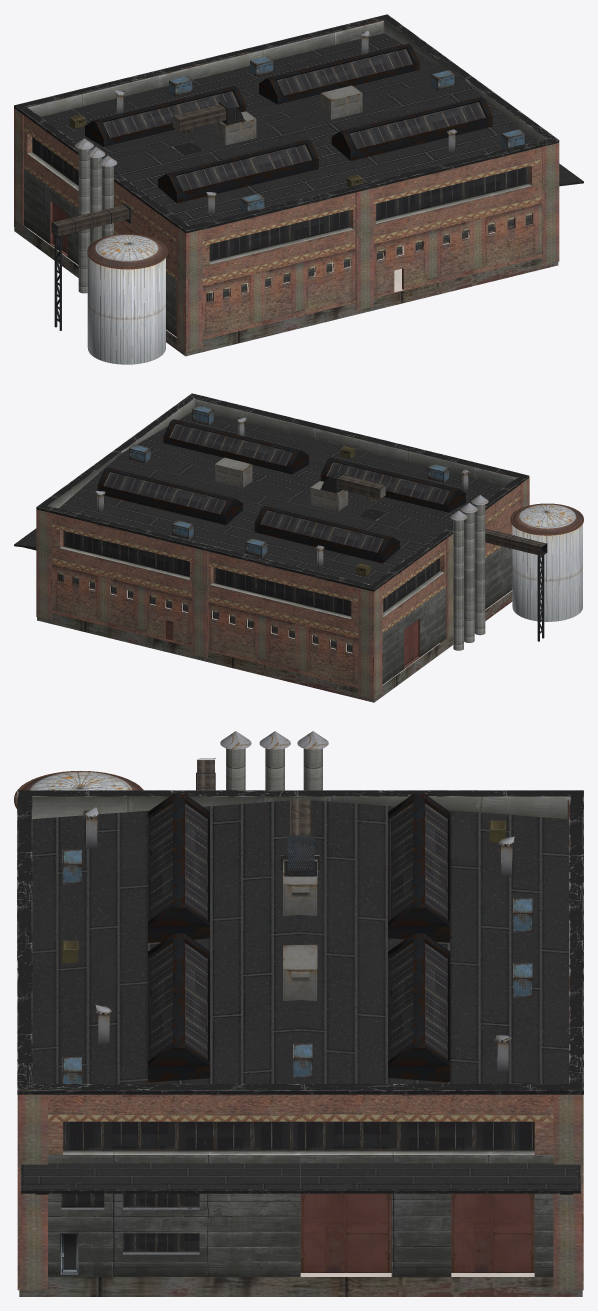
Rendered from factoryLOD0.glb.
3 views of the same model, one above another, from view 1: azimuth 30°, elevation 25°; view 2: azimuth 150°, elevation 25°; view 3: azimuth 270°, elevation 25° (orthographic). The views are drawn at different scales.
Parts seen in each view (by area): view 1: factory; view 2: factory; view 3: factory.
Part boxes in pixels (left/top/right/bottom): factory: left=14, top=14, right=583, bottom=364; factory: left=14, top=393, right=583, bottom=702; factory: left=14, top=731, right=583, bottom=1296.
Size of what is drawn, in the model's own units: 57.41 by 18.38 by 36.36.
1 material, 1 textured.
